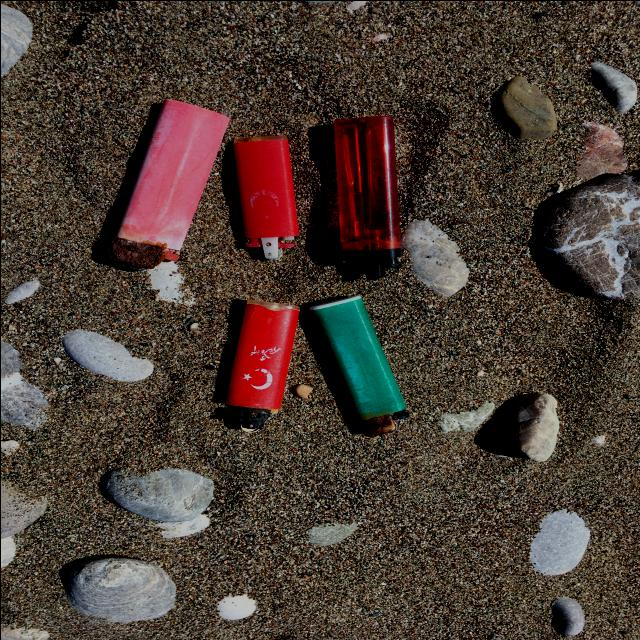Unlabeled litter: (104, 98, 229, 269), (308, 295, 408, 437), (332, 115, 400, 279), (222, 299, 299, 432), (232, 135, 298, 258)
